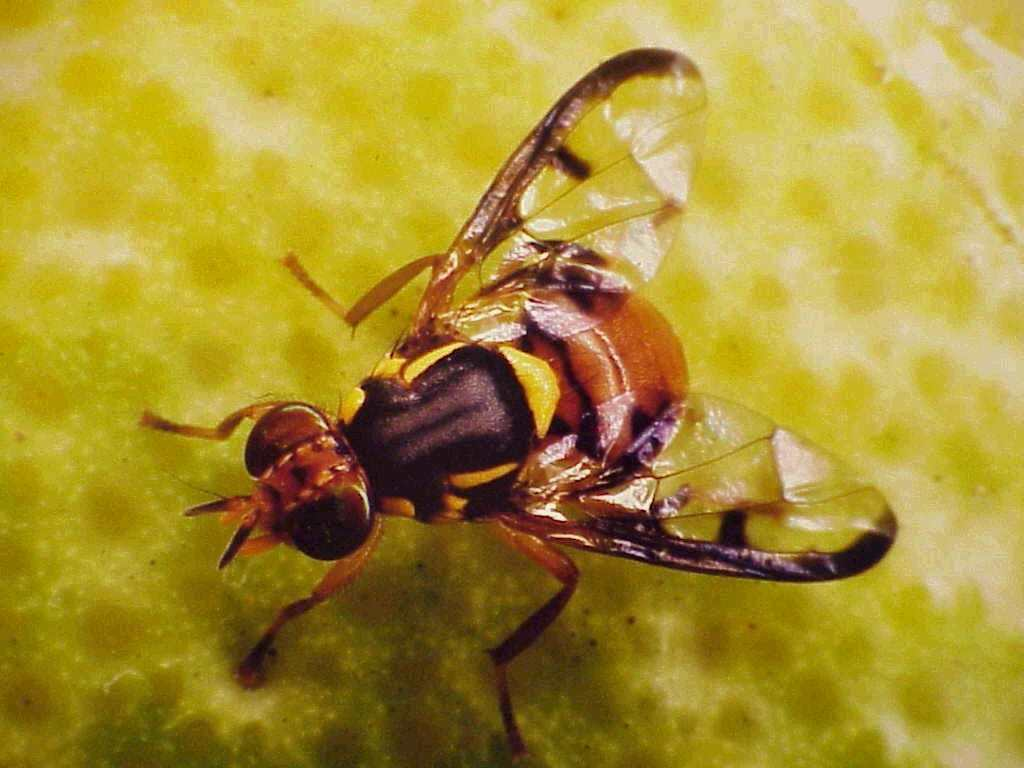Fruit fly: (193, 75, 845, 713)
